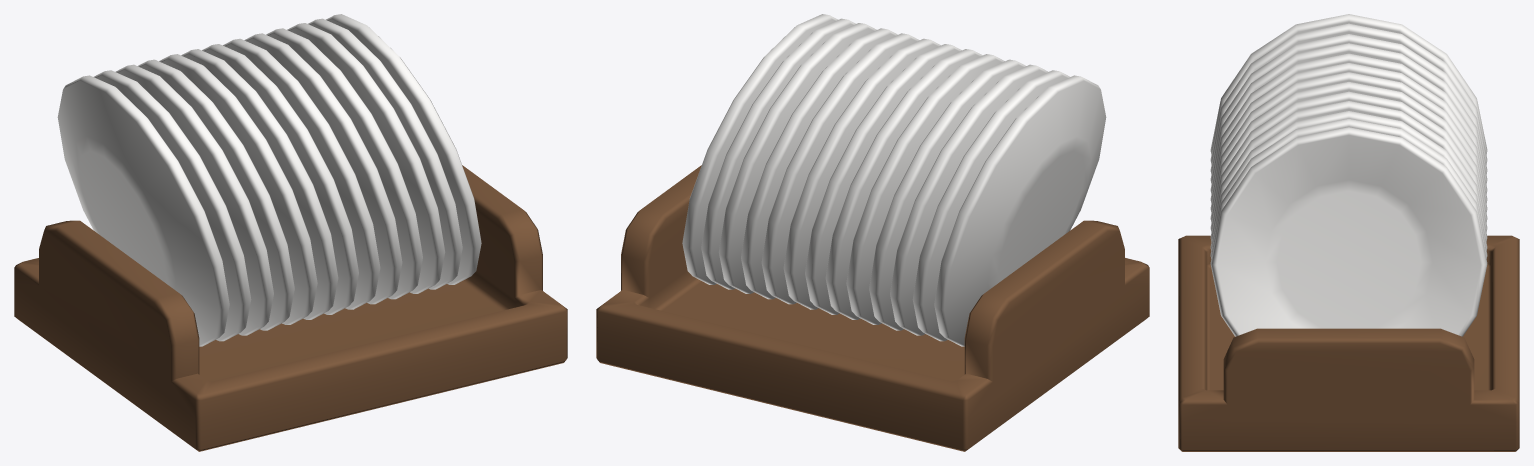
The model's file is Stand_with_Plates_1.glb.
The picture shows the model from 3 angles, left to right: view 1: azimuth 30°, elevation 25°; view 2: azimuth 150°, elevation 25°; view 3: azimuth 270°, elevation 25°; orthographic projection. The views are drawn at different scales.
Parts seen in each view (by area): view 1: Stand_with_Plates_1; view 2: Stand_with_Plates_1; view 3: Stand_with_Plates_1.
Part boxes in pixels (box(x1,y1,x2,y2)): Stand_with_Plates_1: box(14, 14, 567, 451); Stand_with_Plates_1: box(596, 14, 1149, 451); Stand_with_Plates_1: box(1178, 14, 1519, 451).
Bounding box in the file's own units: 0.514 × 0.3907 × 0.4409.
Materials: 1 (1 with a texture image).
